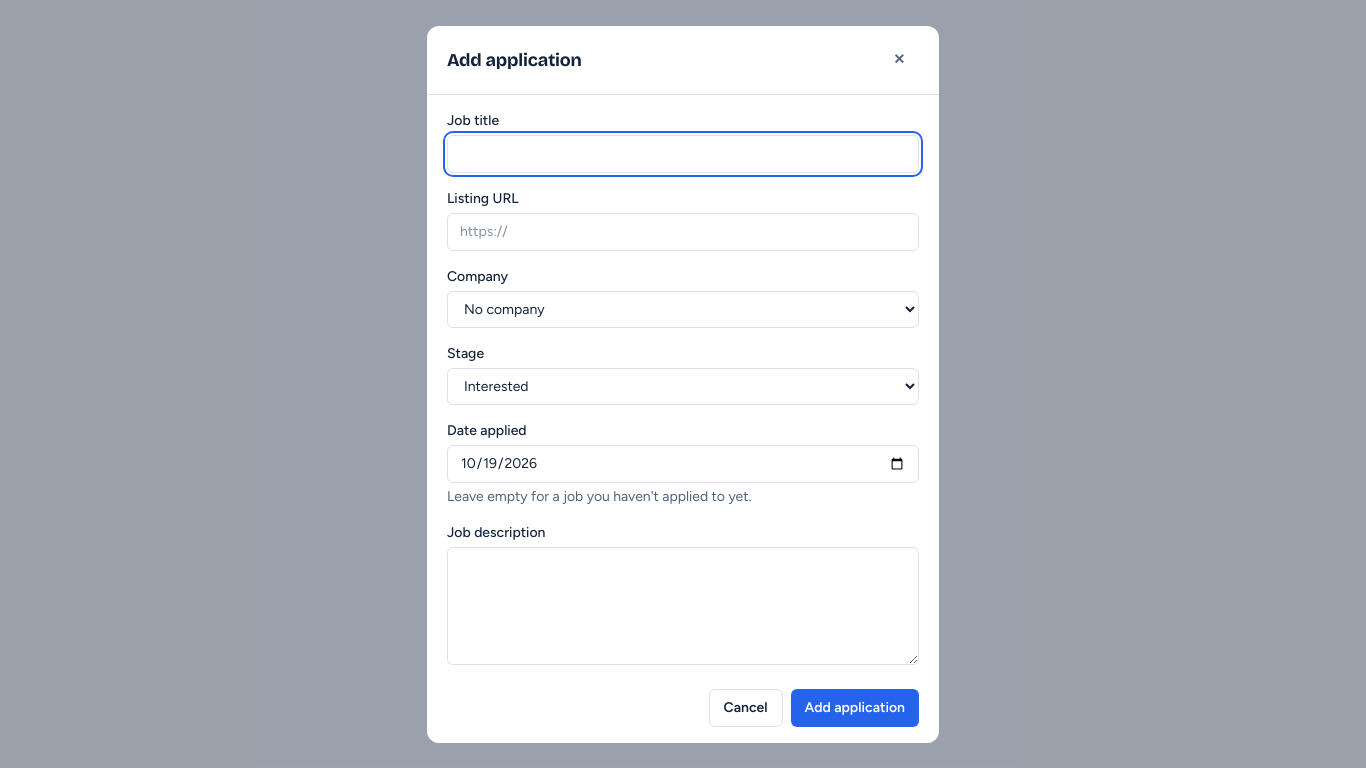
Test: shows field errors from the API and keeps the dialog open
The width and height of the screenshot is (1366, 768).
What coordinates should you click on to do the following:
click the button "Add application"
I would click on:
 (855, 708)
Its box is [791,688,919,726].
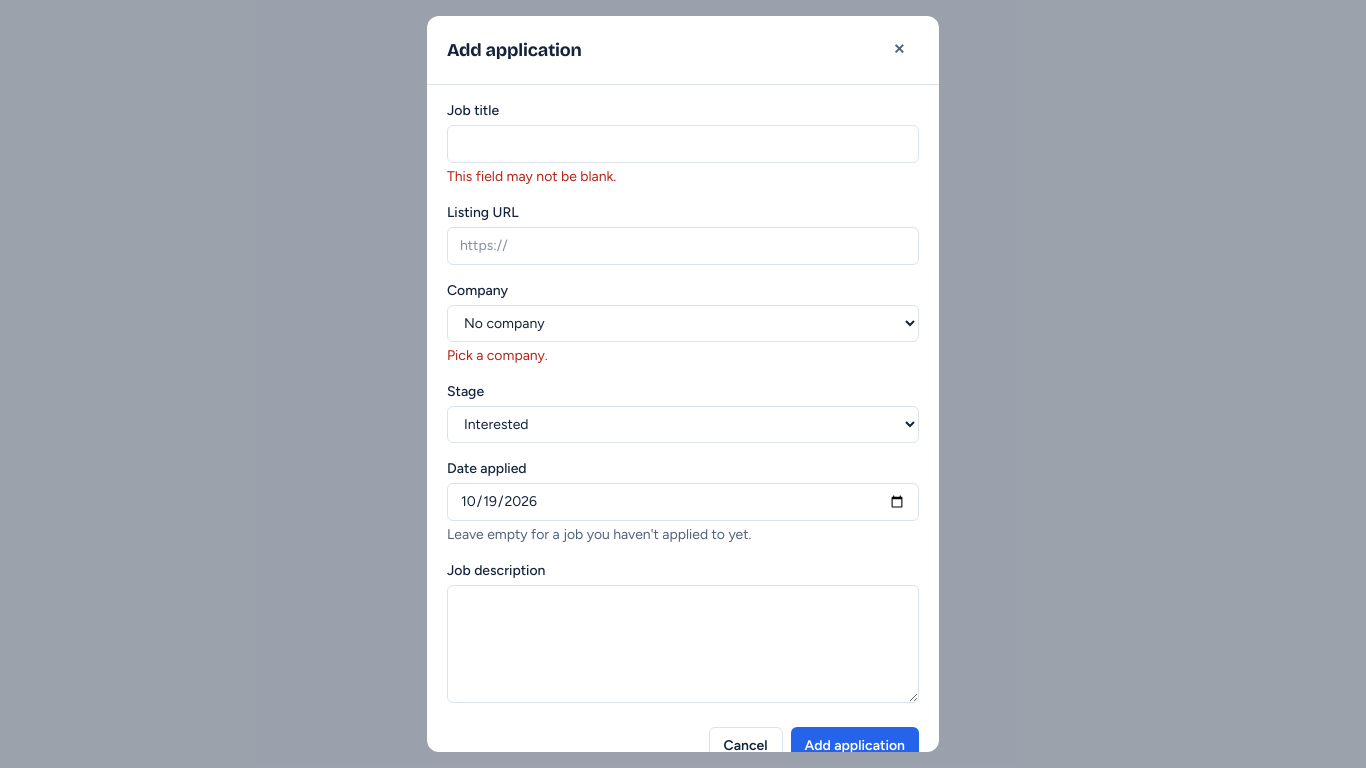
Result: the text "This field may not be blank." is shown at [447,168,616,185]
Result: the text "Pick a company." is shown at [447,347,548,364]
